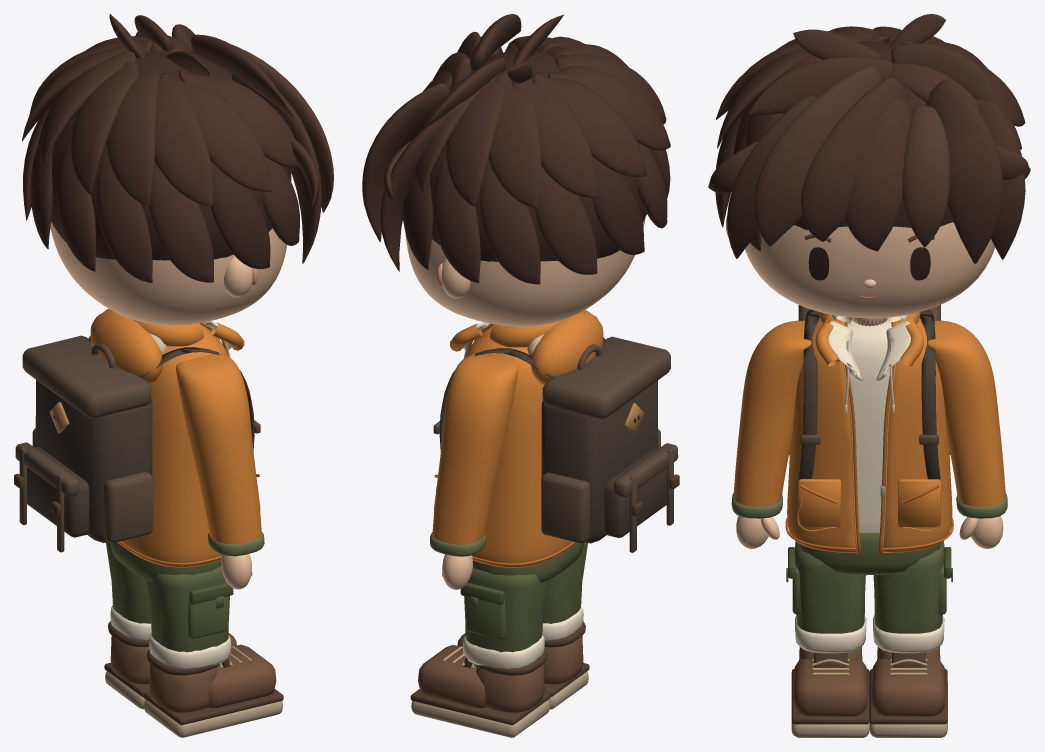
Rendered from camper_male_sculpt.glb.
3 views of the same model, side by side, from view 1: azimuth 30°, elevation 25°; view 2: azimuth 150°, elevation 25°; view 3: azimuth 270°, elevation 25° (orthographic).
Parts seen in each view (by area): view 1: camp_hair, camp_jacket, camp_pack_edge, camp_pack, camp_skin, camp_hair_dark, camp_pants, camp_boot, camp_boot_dark, camp_hair_light, camp_sole, camp_cream (+2 smaller); view 2: camp_hair, camp_jacket, camp_pack_edge, camp_pack, camp_skin, camp_hair_dark, camp_pants, camp_boot, camp_boot_dark, camp_sole, camp_cream, camp_cuff (+1 smaller); view 3: camp_hair, camp_jacket, camp_skin, camp_hair_light, camp_pants, camp_cream, camp_boot, camp_pack, camp_boot_dark, camp_hair_dark, camp_sole, camp_jacket_trim (+5 smaller).
Boxes of the visible parts, x1,y1,x2,y2 form: camp_hair: (22, 14, 321, 282); camp_jacket: (90, 308, 261, 567); camp_pack_edge: (15, 335, 260, 552); camp_pack: (27, 336, 254, 542); camp_skin: (50, 222, 286, 589); camp_hair_dark: (30, 50, 291, 268); camp_pants: (106, 542, 229, 652); camp_boot: (110, 633, 276, 712); camp_boot_dark: (14, 414, 283, 725); camp_hair_light: (231, 44, 333, 212); camp_sole: (105, 671, 282, 737); camp_cream: (110, 321, 231, 668); camp_hair: (362, 14, 670, 284); camp_jacket: (432, 309, 603, 567); camp_pack_edge: (433, 336, 678, 552); camp_pack: (439, 337, 666, 543); camp_skin: (405, 217, 645, 589); camp_hair_dark: (402, 49, 655, 269); camp_pants: (464, 542, 587, 652); camp_boot: (418, 633, 583, 712); camp_boot_dark: (410, 415, 679, 725); camp_sole: (411, 671, 588, 737); camp_cream: (462, 322, 583, 668); camp_cuff: (430, 532, 485, 556); camp_hair: (708, 14, 1030, 264); camp_jacket: (733, 312, 1005, 552); camp_skin: (725, 217, 1003, 548); camp_hair_light: (754, 66, 950, 247); camp_pants: (786, 533, 952, 633); camp_cream: (795, 314, 944, 653); camp_boot: (793, 646, 945, 716); camp_pack: (798, 309, 940, 480); camp_boot_dark: (791, 640, 947, 724); camp_hair_dark: (715, 40, 953, 229); camp_sole: (791, 682, 947, 737); camp_jacket_trim: (785, 322, 953, 554).
Bounding box in the file's own units: 0.5313 × 1.36 × 0.5871.
